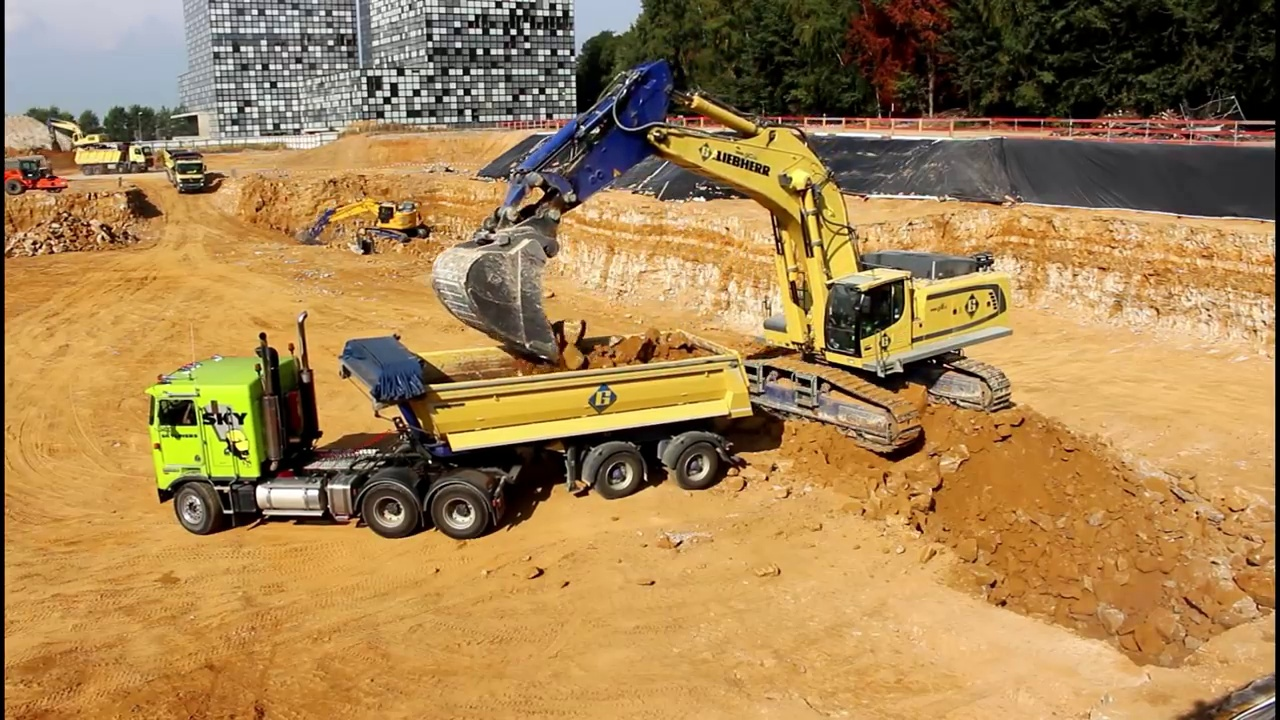compactor: (4, 157, 70, 200)
excavator: (426, 55, 1014, 457), (288, 192, 432, 255), (43, 107, 128, 155)
truck: (143, 309, 760, 545), (73, 137, 157, 179), (166, 137, 214, 199)
